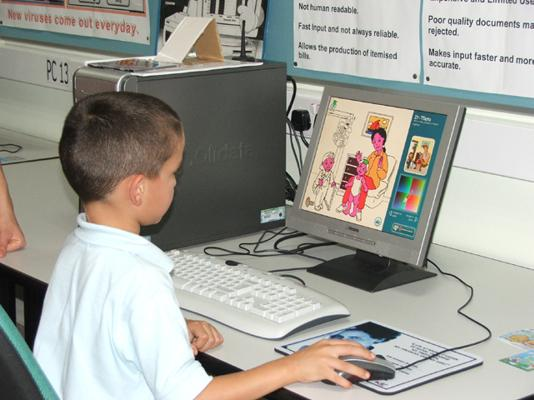person: (34, 90, 378, 400)
